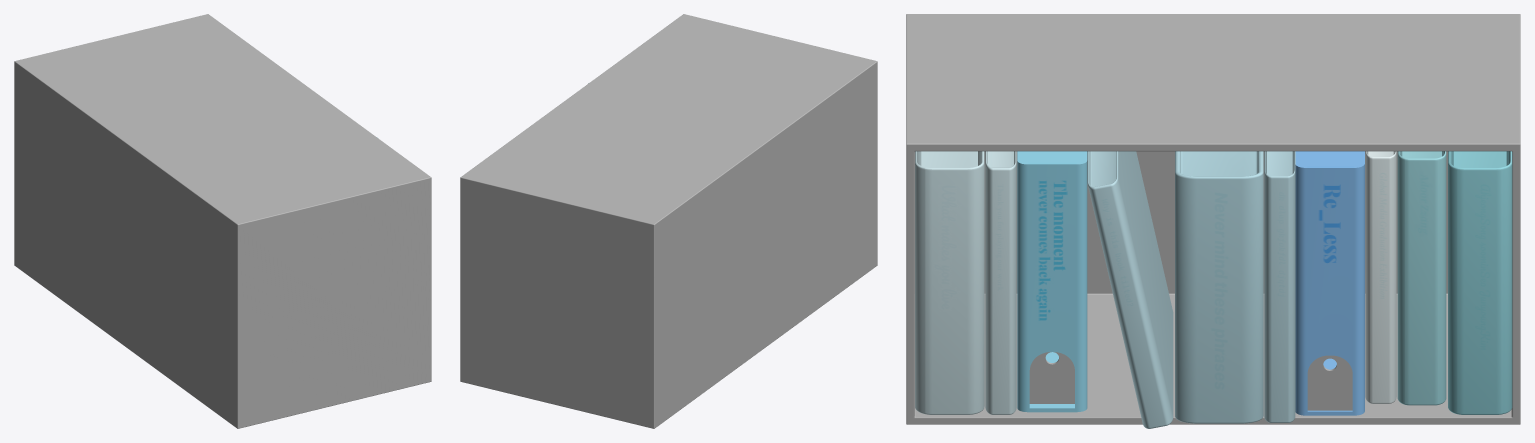
The model's file is Chater02_Bookcase2.fbx.
3 renders of one model, left to right at view 1: azimuth 30°, elevation 25°; view 2: azimuth 150°, elevation 25°; view 3: azimuth 270°, elevation 25°, orthographic. The views are drawn at different scales.
Parts seen in each view (by area): view 1: SmallBookcase.Body; view 2: SmallBookcase.Body; view 3: Book.009, SmallBookcase.Body, Book.Door.002, Book.Door.001.
Part boxes in pixels (x1,y1,x2,y2): SmallBookcase.Body: [14, 14, 431, 428]; SmallBookcase.Body: [460, 14, 877, 428]; Book.009: [915, 151, 1512, 428]; SmallBookcase.Body: [906, 14, 1520, 424]; Book.Door.002: [1307, 355, 1352, 410]; Book.Door.001: [1029, 352, 1074, 403].
Size of the model in its own units: 980 by 890 by 1763.
Materials: 2 (1 with a texture image).
